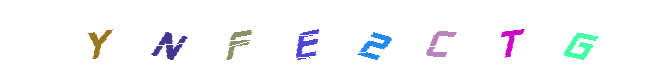2: (335, 0, 415, 80)
C: (335, 0, 415, 80)
E: (284, 0, 364, 80)
F: (262, 0, 342, 80)
G: (540, 0, 620, 80)
N: (129, 0, 209, 80)
T: (471, 0, 551, 80)
Y: (128, 0, 208, 80)
